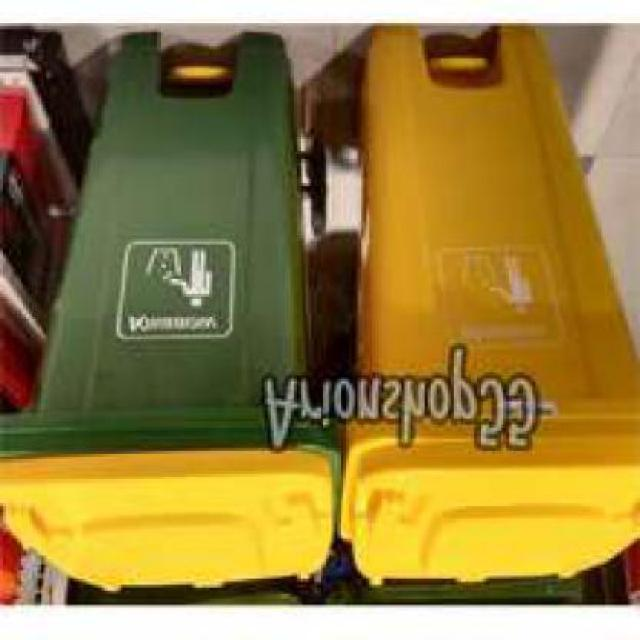garbage container: (4, 18, 335, 592), (336, 4, 639, 592)
